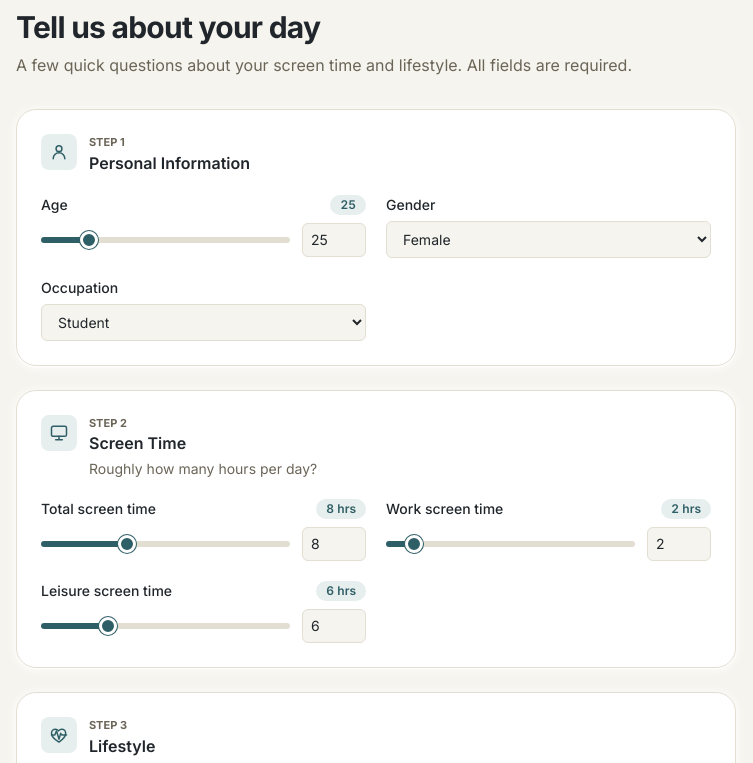
Test case: PredictionForm › hides Work Mode for students and shows it for other occupations
Expected: the field labelled "Work Mode" is not shown
Select "Employed" in the dropdown labelled "Occupation" at (204, 322), box [41,304,366,340]
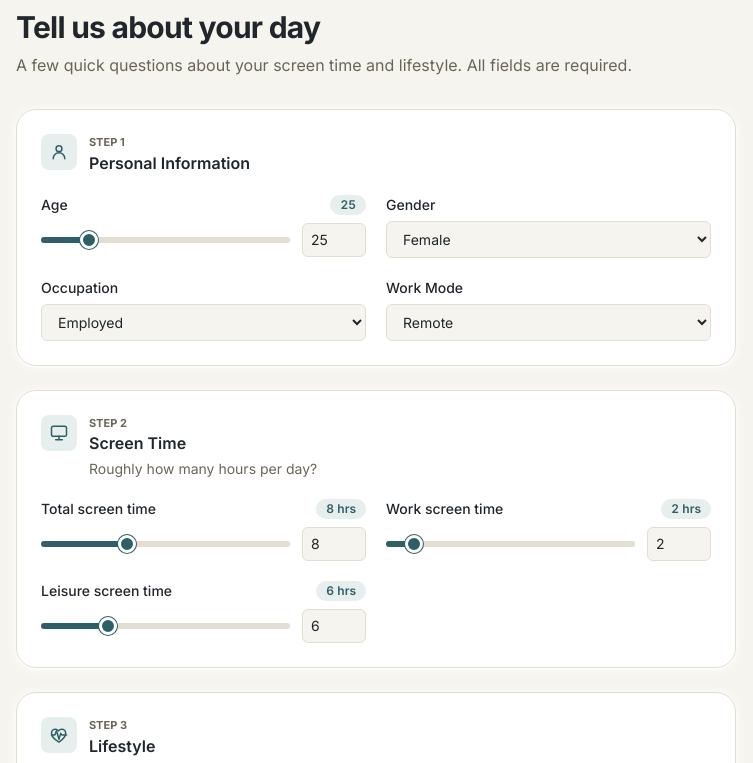
Now the dropdown labelled "Work Mode" is shown, box [386,304,711,340]
Select "Student" in the dropdown labelled "Occupation" at (204, 322), box [41,304,366,340]
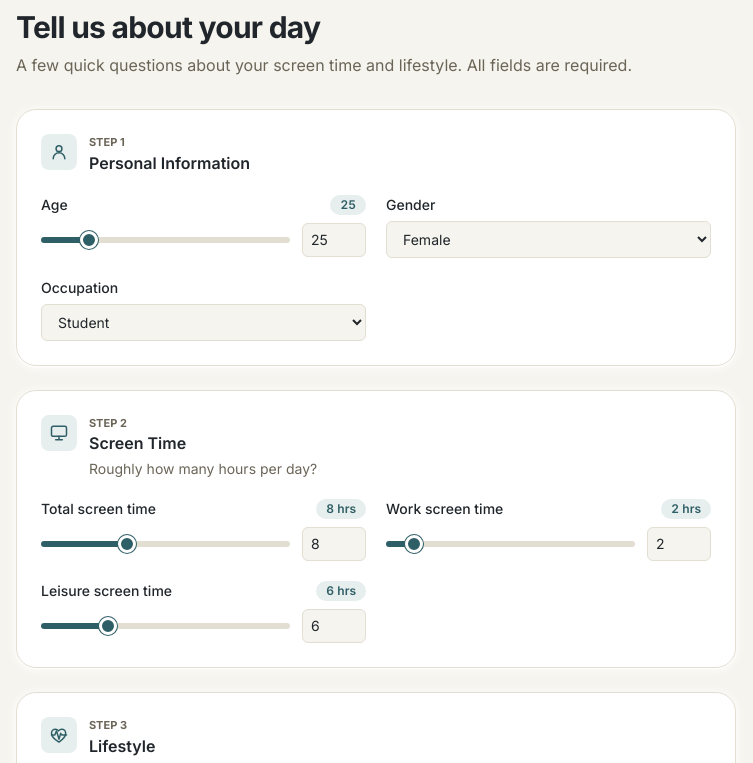
Now the text labelled "Work Mode" is gone
